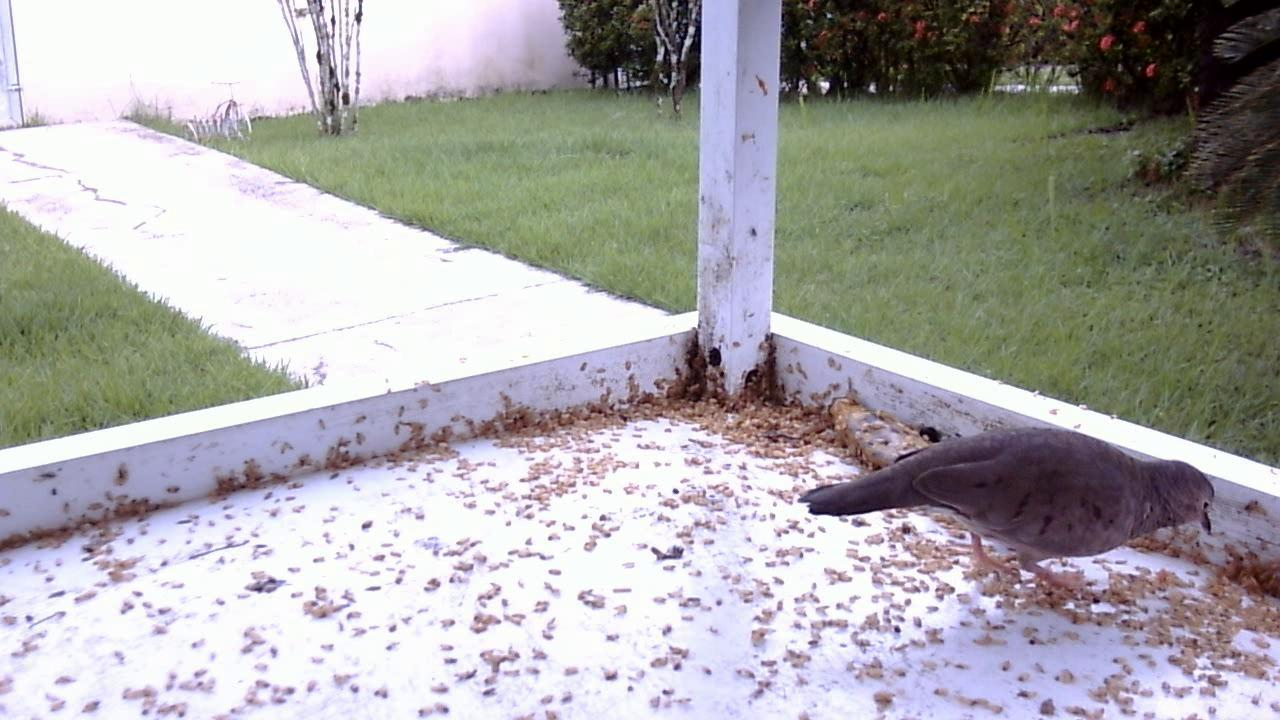rolinha: (794, 408, 1220, 603)
